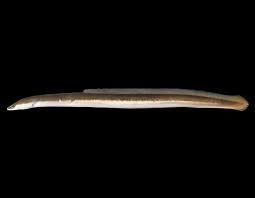Freshwater Eel: (3, 87, 247, 111)
